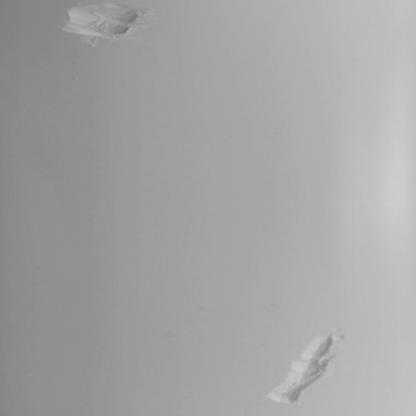sunshang: (271, 329, 340, 405), (61, 1, 150, 43)
